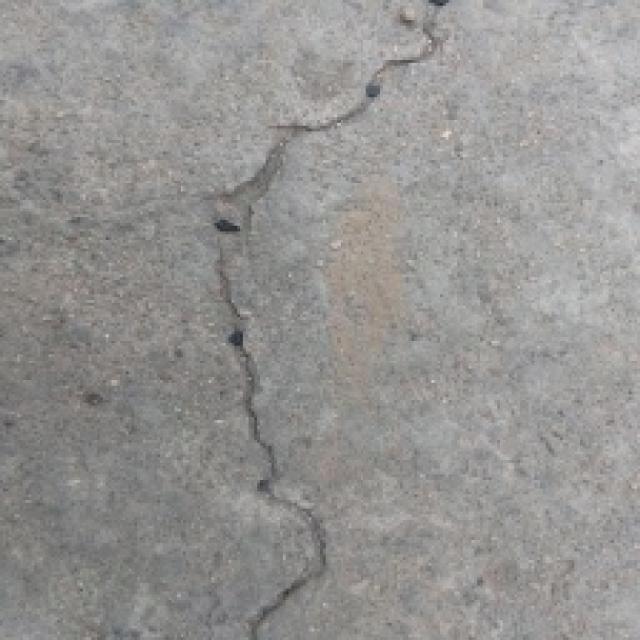SurfaceCrack: (162, 4, 472, 640)
